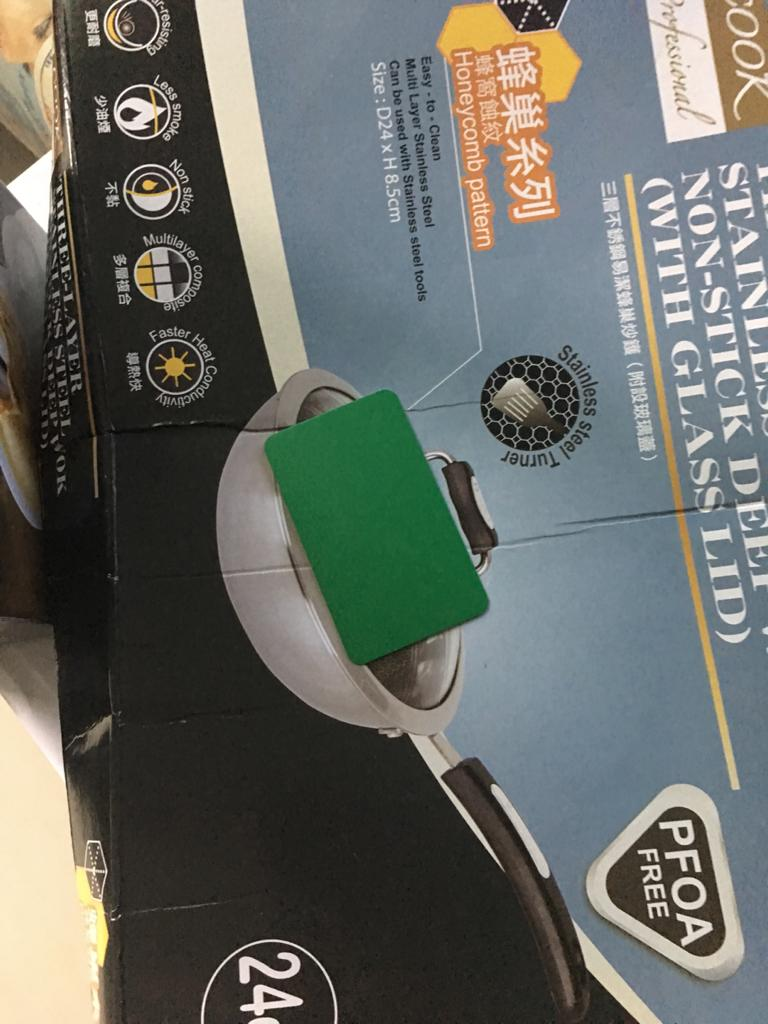green: (244, 383, 506, 679)
